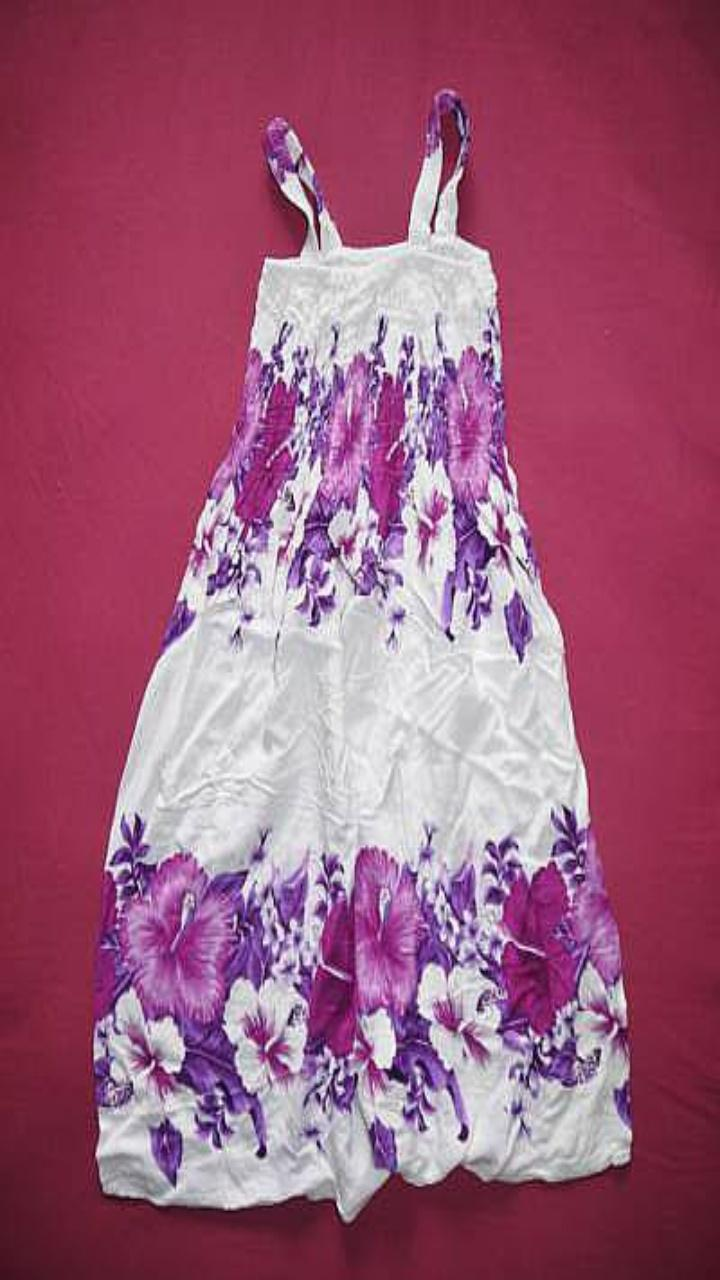Dresses: (93, 89, 631, 1220)
